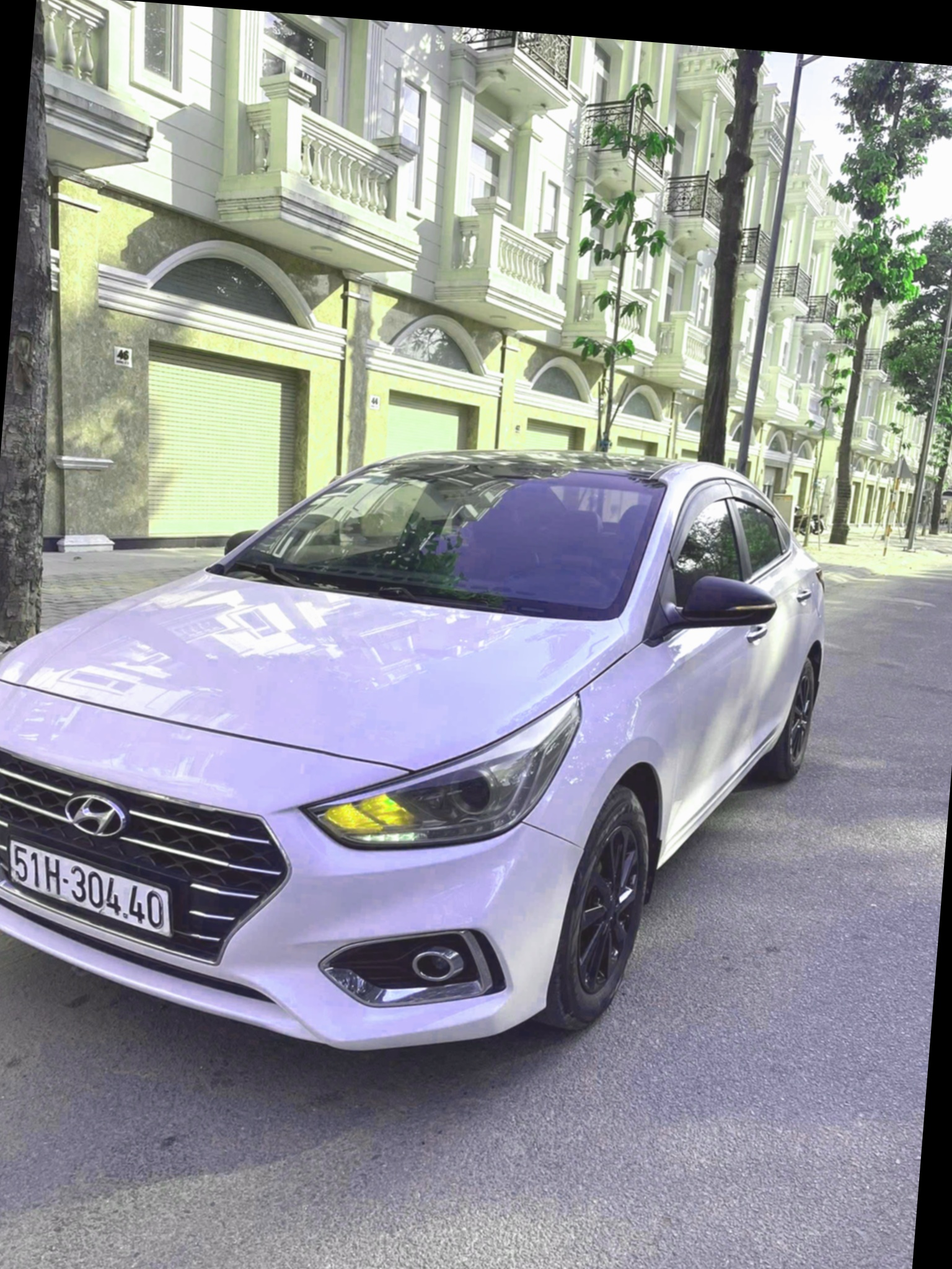Bien-so: (3, 839, 177, 935)
